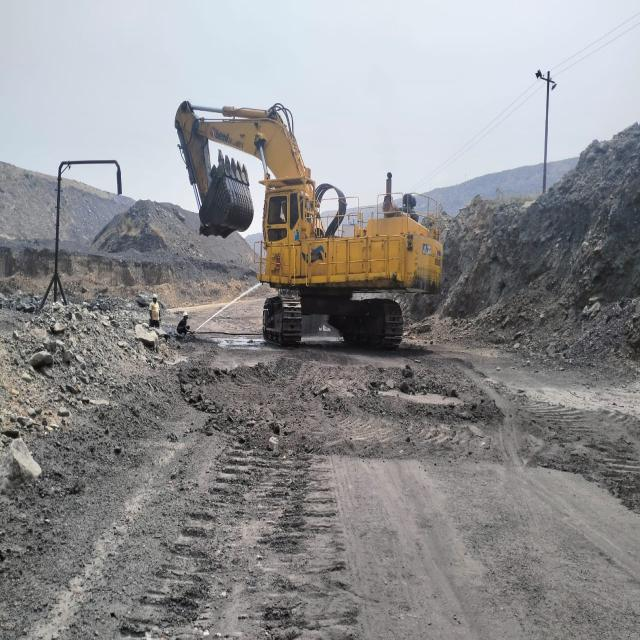excavator: (180, 98, 446, 302)
